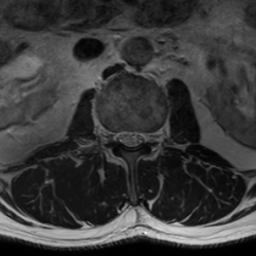CCS_stenosis: (125, 120, 134, 157)
LFS_normal: (143, 120, 153, 151)
LLS_normal: (134, 122, 143, 153)
RFS_normal: (105, 119, 115, 149)
RLS_normal: (115, 121, 125, 152)
